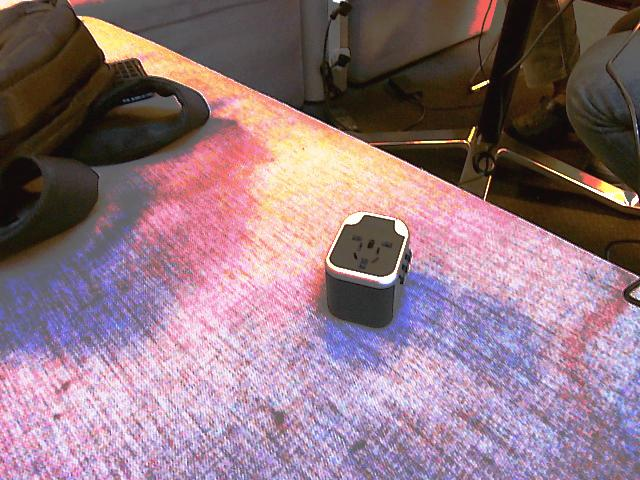adapter: (323, 210, 412, 328)
